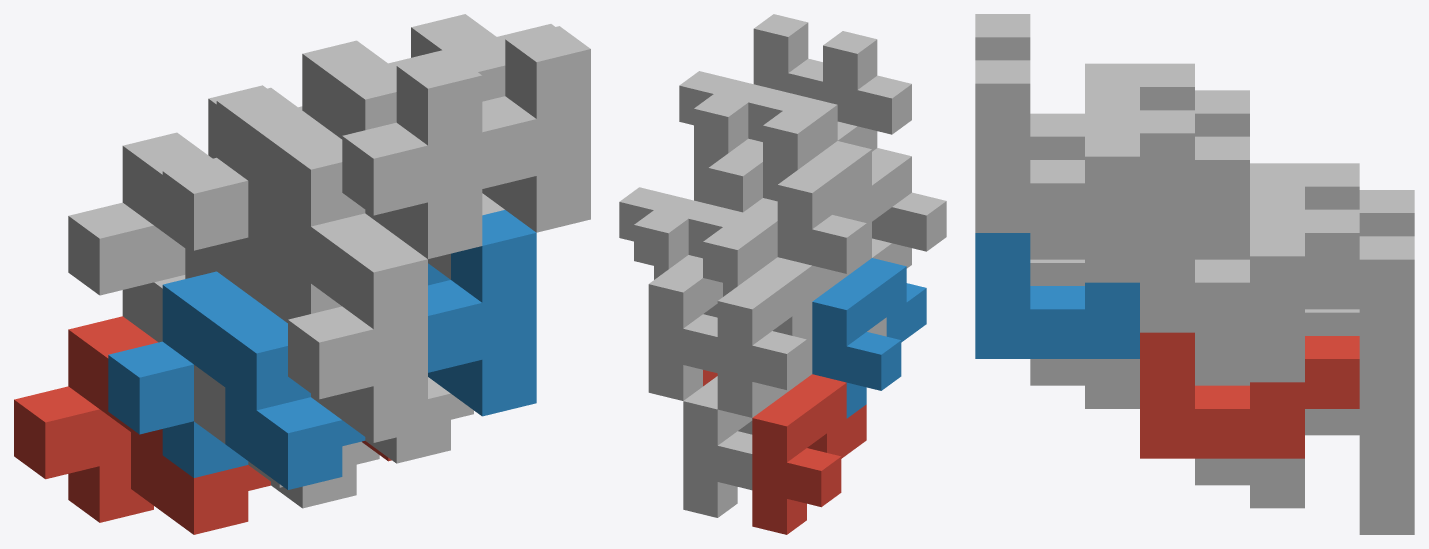
The model's file is tiling.obj.
The picture shows the model from 3 angles, left to right: view 1: azimuth 30°, elevation 25°; view 2: azimuth 150°, elevation 25°; view 3: azimuth 270°, elevation 25°; orthographic projection. The views are drawn at different scales.
Visible parts, largest first — view 1: copy_1_domain_2, copy_2_domain_4, copy_1_domain_4, copy_2_domain_2, copy_1_domain_1, copy_2_domain_8, copy_2_domain_6, copy_1_domain_3, copy_1_domain_6, copy_2_domain_1, copy_2_domain_3, copy_1_domain_5; view 2: copy_1_domain_1, copy_2_domain_4, copy_1_domain_3, copy_1_domain_2, copy_1_domain_4, copy_2_domain_8, copy_1_domain_7, copy_1_domain_5, copy_2_domain_3, copy_2_domain_7, copy_2_domain_2, copy_1_domain_8 (+1 smaller); view 3: copy_2_domain_8, copy_2_domain_7, copy_2_domain_5, copy_1_domain_7, copy_2_domain_6, copy_1_domain_5, copy_1_domain_8, copy_2_domain_4, copy_1_domain_6, copy_2_domain_3, copy_1_domain_3, copy_1_domain_4 (+2 smaller).
Part boxes in pixels (bbox=[...]): copy_1_domain_2: bbox=[108, 271, 365, 489]; copy_2_domain_4: bbox=[302, 40, 482, 258]; copy_1_domain_4: bbox=[162, 87, 395, 305]; copy_2_domain_2: bbox=[248, 236, 427, 442]; copy_1_domain_1: bbox=[14, 316, 270, 534]; copy_2_domain_8: bbox=[411, 14, 590, 232]; copy_2_domain_6: bbox=[428, 210, 536, 416]; copy_1_domain_3: bbox=[68, 132, 216, 338]; copy_1_domain_6: bbox=[365, 377, 473, 463]; copy_2_domain_1: bbox=[154, 275, 282, 487]; copy_2_domain_3: bbox=[208, 85, 302, 260]; copy_1_domain_5: bbox=[271, 441, 379, 508]; copy_1_domain_1: bbox=[752, 374, 866, 534]; copy_2_domain_4: bbox=[748, 31, 911, 169]; copy_1_domain_3: bbox=[717, 257, 812, 417]; copy_1_domain_2: bbox=[812, 258, 926, 418]; copy_1_domain_4: bbox=[777, 141, 891, 301]; copy_2_domain_8: bbox=[679, 14, 822, 153]; copy_1_domain_7: bbox=[648, 255, 722, 400]; copy_1_domain_5: bbox=[683, 376, 752, 517]; copy_2_domain_3: bbox=[688, 161, 851, 296]; copy_2_domain_7: bbox=[619, 145, 727, 279]; copy_2_domain_2: bbox=[832, 148, 946, 286]; copy_1_domain_8: bbox=[708, 138, 777, 220]; copy_2_domain_8: bbox=[975, 60, 1194, 232]; copy_2_domain_7: bbox=[1140, 183, 1359, 332]; copy_2_domain_5: bbox=[1140, 332, 1359, 458]; copy_1_domain_7: bbox=[1195, 236, 1414, 408]; copy_2_domain_6: bbox=[975, 233, 1139, 358]; copy_1_domain_5: bbox=[1195, 409, 1414, 534]; copy_1_domain_8: bbox=[1030, 136, 1249, 282]; copy_2_domain_4: bbox=[975, 14, 1194, 159]; copy_1_domain_6: bbox=[1030, 359, 1249, 408]; copy_2_domain_3: bbox=[1250, 163, 1359, 209]; copy_1_domain_3: bbox=[1359, 190, 1414, 236]; copy_1_domain_4: bbox=[1195, 90, 1249, 136].
Bounding box in the file's own units: 7 × 10 × 8.
